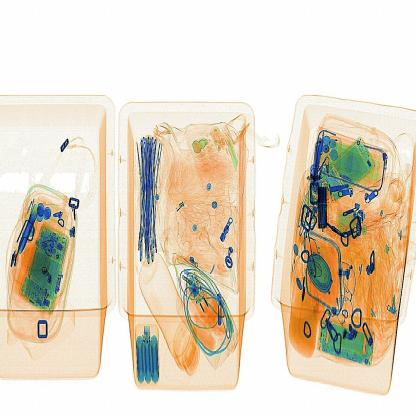scissors: (311, 175, 345, 234)
